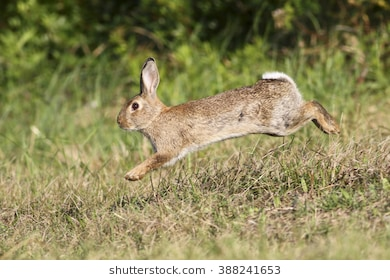bunny: (100, 55, 353, 191)
